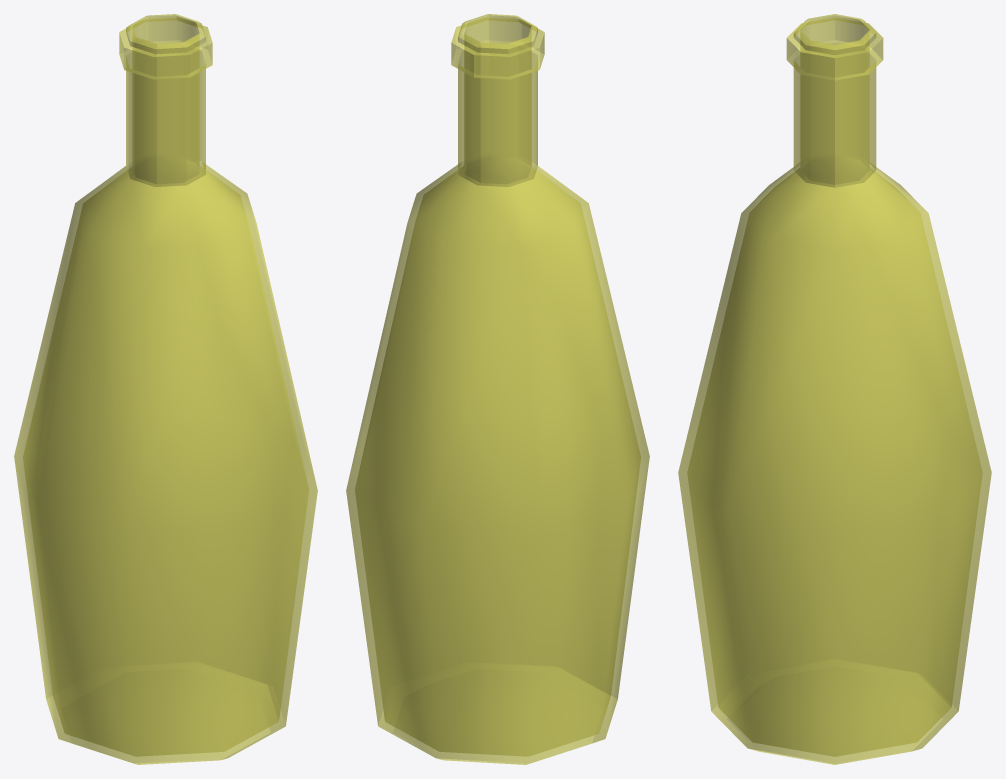
The model's file is PROP_013_Bottles_F.fbx.
3 views of the same model, side by side, from view 1: azimuth 30°, elevation 25°; view 2: azimuth 150°, elevation 25°; view 3: azimuth 270°, elevation 25° (orthographic).
Parts seen in each view (by area): view 1: Cuadrado_011; view 2: Cuadrado_011; view 3: Cuadrado_011.
Boxes of the visible parts, x1,y1,x2,y2 form: Cuadrado_011: (14,14,317,764); Cuadrado_011: (346,14,649,764); Cuadrado_011: (678,14,991,764).
Bounding box in the file's own units: 0.1958 × 0.4746 × 0.1958.
